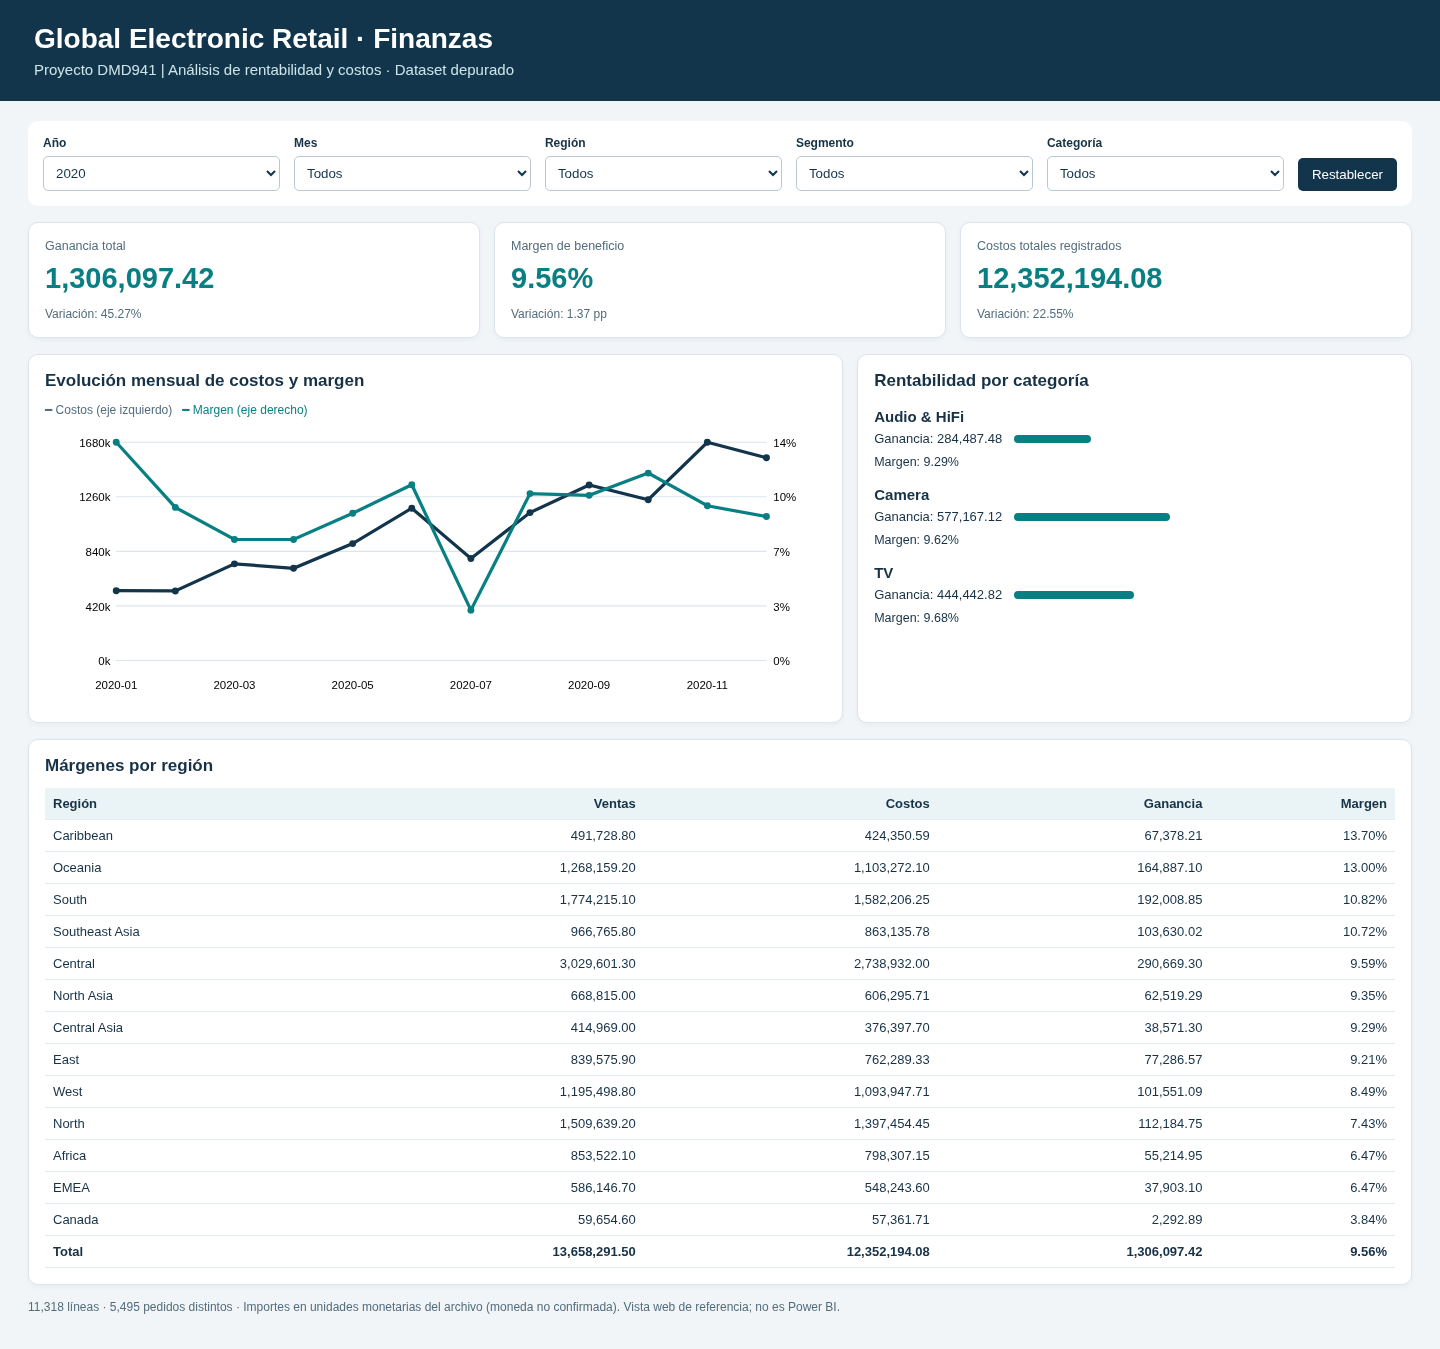

Layout of this report page (visuals, bound fields, positions):
{"tool":"powerbi","page":{"name":"Finanzas","canvas":[1440,900],"ordinal":1},"visuals":[{"type":"card","title":"Ganancia total","fields":{"Values":["fact_ventas_finanzas.Ganancia total"]},"box":[24,166,440,110],"z":100},{"type":"card","title":"Margen de beneficio","fields":{"Values":["fact_ventas_finanzas.Margen de beneficio"]},"box":[484,166,440,110],"z":100},{"type":"card","title":"Costos totales registrados","fields":{"Values":["fact_ventas_finanzas.Costos totales registrados"]},"box":[944,166,440,110],"z":100},{"type":"slicer","title":"Año","fields":{"Values":["dim_tiempo.anio"]},"box":[24,86,260,64],"z":200},{"type":"slicer","title":"Periodo","fields":{"Values":["dim_tiempo.Periodo"]},"box":[294,86,260,64],"z":200},{"type":"slicer","title":"Región","fields":{"Values":["dim_ubicacion.region"]},"box":[564,86,260,64],"z":200},{"type":"slicer","title":"Segmento","fields":{"Values":["dim_cliente.segment"]},"box":[834,86,260,64],"z":200},{"type":"slicer","title":"Categoría","fields":{"Values":["dim_producto.category"]},"box":[1104,86,260,64],"z":200},{"type":"lineStackedColumnComboChart","title":"Evolución mensual de costos y margen","fields":{"Category":["dim_tiempo.Periodo"],"Y":["fact_ventas_finanzas.Costos totales registrados"],"Y2":["fact_ventas_finanzas.Margen de beneficio"]},"box":[24,300,880,280],"z":300},{"type":"lineStackedColumnComboChart","title":"Rentabilidad por categoría","fields":{"Category":["dim_producto.category"],"Y":["fact_ventas_finanzas.Ganancia total"],"Y2":["fact_ventas_finanzas.Margen de beneficio"]},"box":[920,300,496,280],"z":300},{"type":"pivotTable","title":"Márgenes por región","fields":{"Rows":["dim_ubicacion.region"],"Values":["fact_ventas_finanzas.Ventas totales","fact_ventas_finanzas.Costos totales registrados","fact_ventas_finanzas.Ganancia total","fact_ventas_finanzas.Margen de beneficio"]},"box":[24,594,1392,268],"z":400},{"type":"textbox","box":[24,10,900,66],"z":1000},{"type":"textbox","box":[24,872,1000,20],"z":9000},{"type":"pageNavigator","box":[1100,16,316,44],"z":15000}]}

Visuals, with their boxes on the page's 1440x900 design canvas (x1, y1, x2, y2). These are canvas units, not pixel positions in the 1440x1349 screenshot, which may show the page scaled, cropped or inside an application window:
"Ganancia total" card: bbox=(24, 166, 464, 276)
"Margen de beneficio" card: bbox=(484, 166, 924, 276)
"Costos totales registrados" card: bbox=(944, 166, 1384, 276)
"Año" slicer: bbox=(24, 86, 284, 150)
"Periodo" slicer: bbox=(294, 86, 554, 150)
"Región" slicer: bbox=(564, 86, 824, 150)
"Segmento" slicer: bbox=(834, 86, 1094, 150)
"Categoría" slicer: bbox=(1104, 86, 1364, 150)
"Evolución mensual de costos y margen" lineStackedColumnComboChart: bbox=(24, 300, 904, 580)
"Rentabilidad por categoría" lineStackedColumnComboChart: bbox=(920, 300, 1416, 580)
"Márgenes por región" pivotTable: bbox=(24, 594, 1416, 862)
textbox: bbox=(24, 10, 924, 76)
textbox: bbox=(24, 872, 1024, 892)
pageNavigator: bbox=(1100, 16, 1416, 60)
